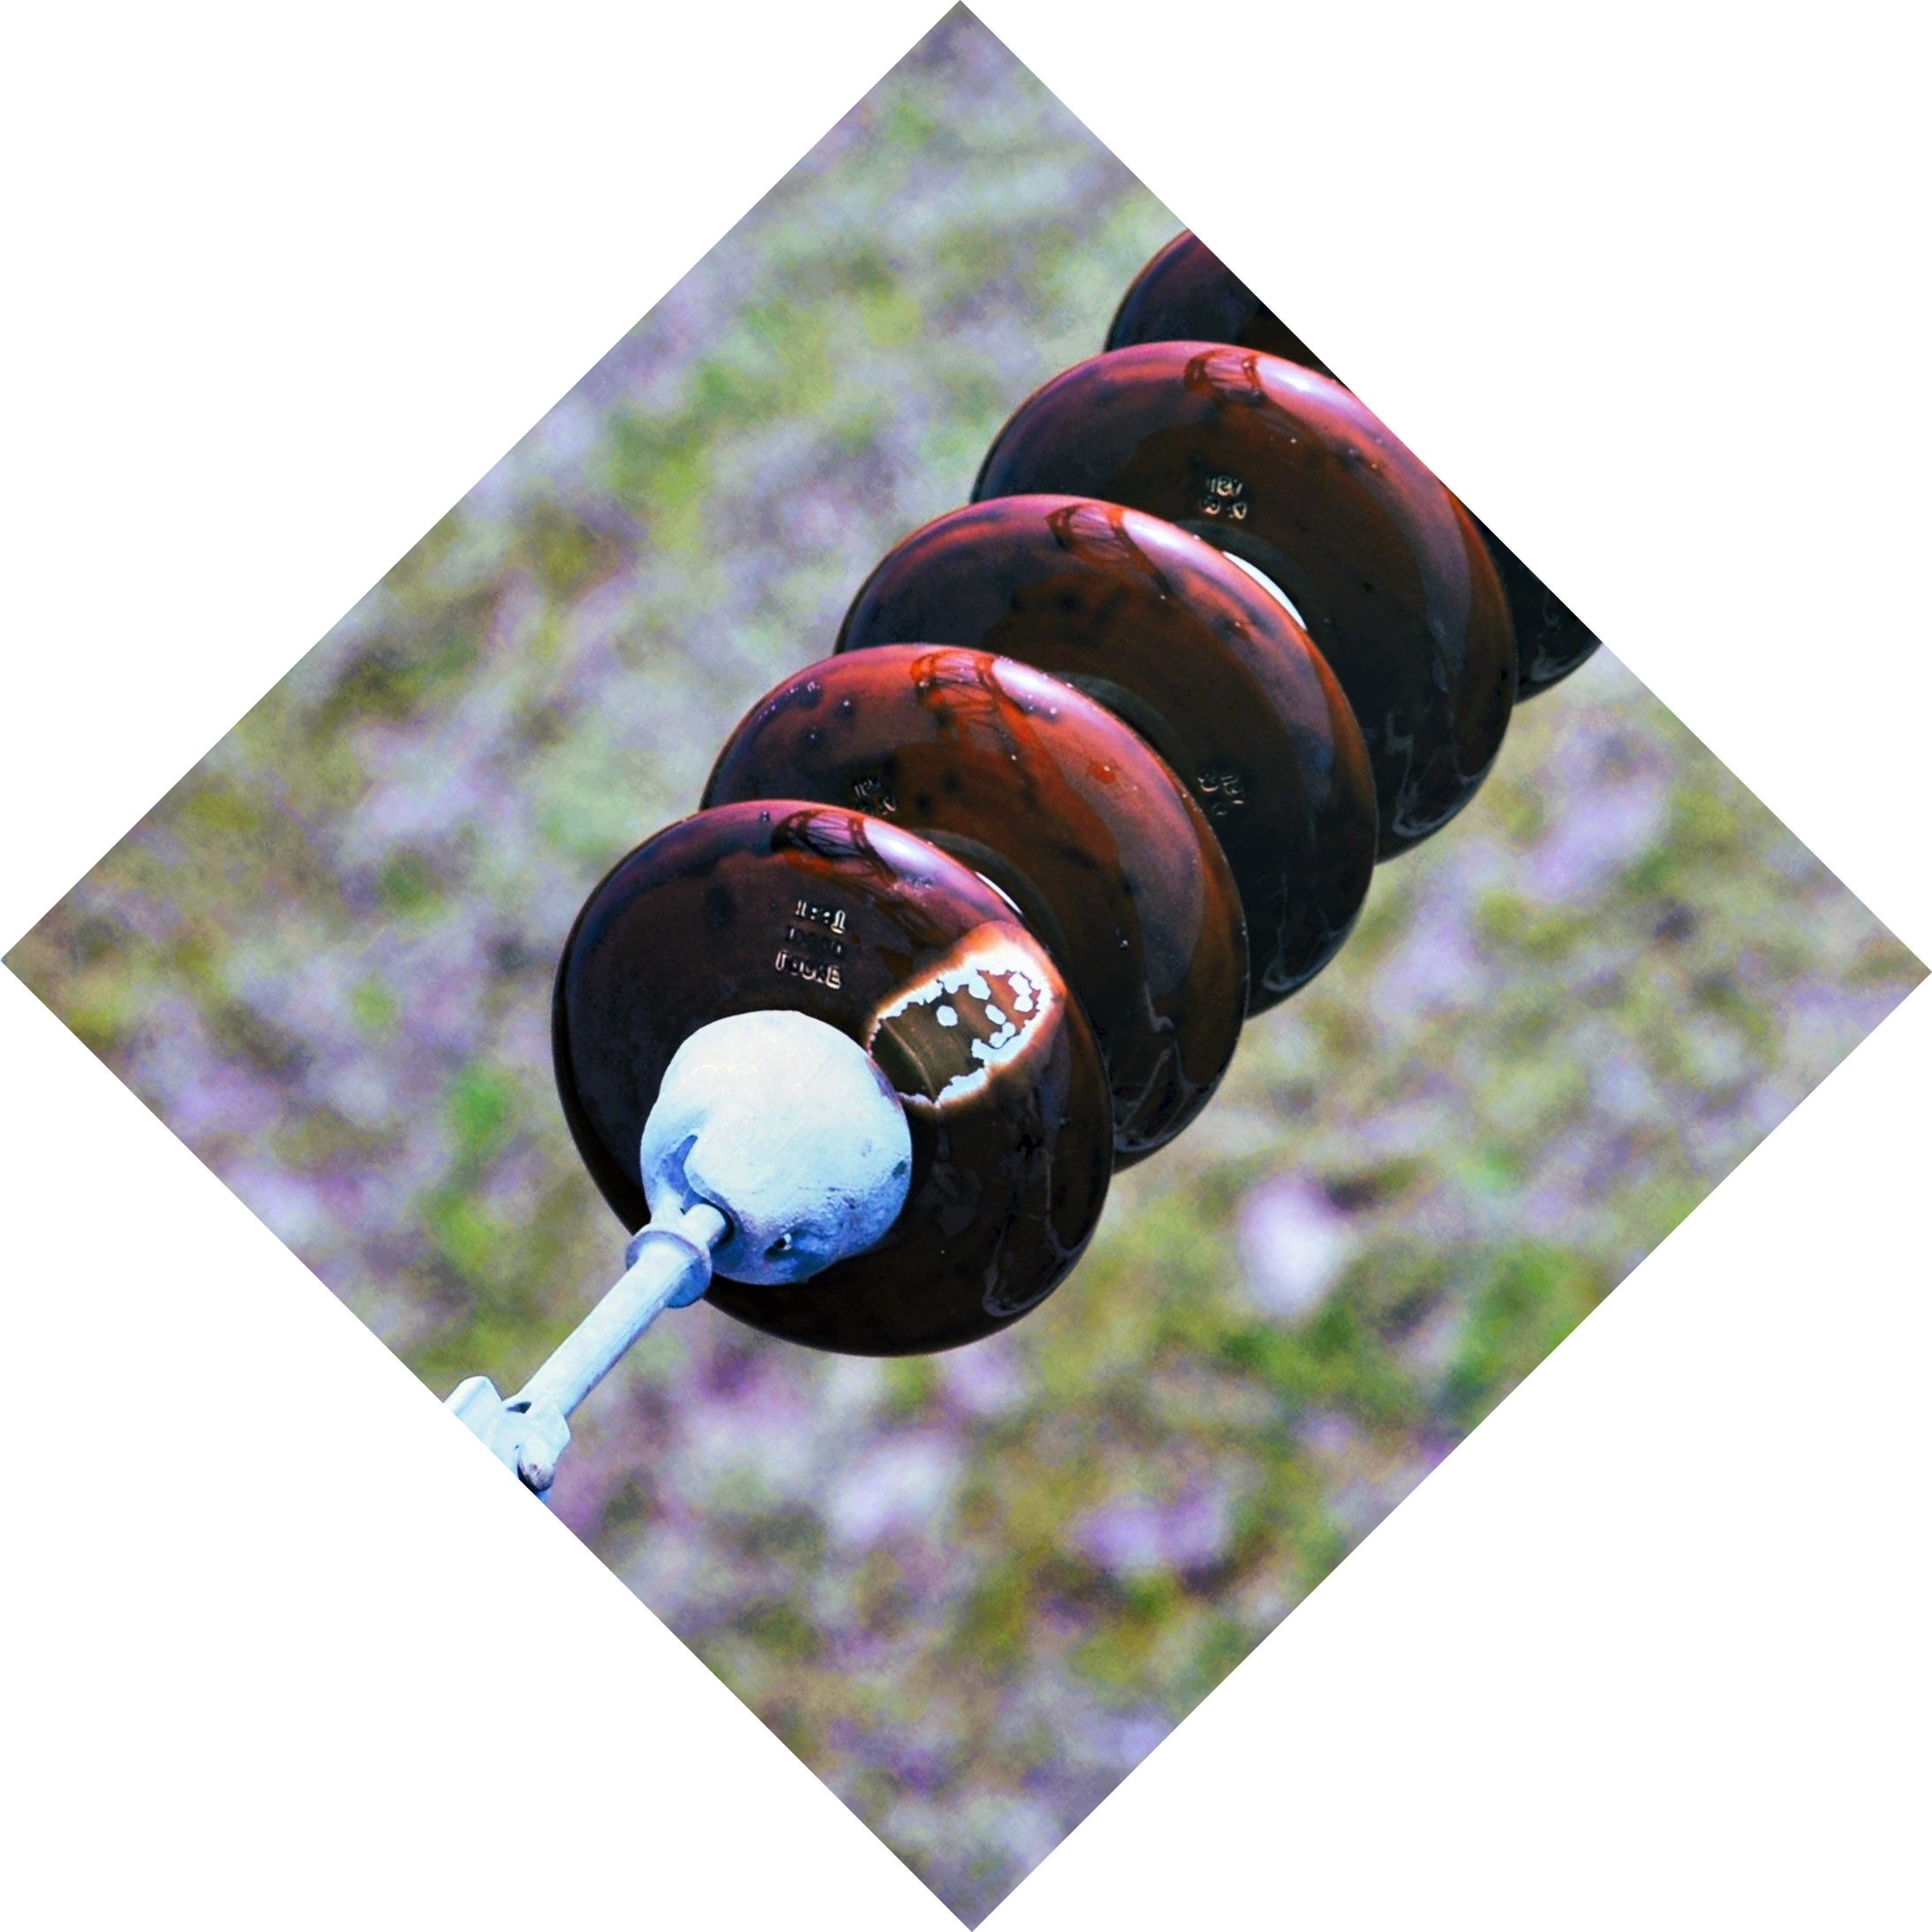Insulator flashover: (522, 791, 1120, 1387)
